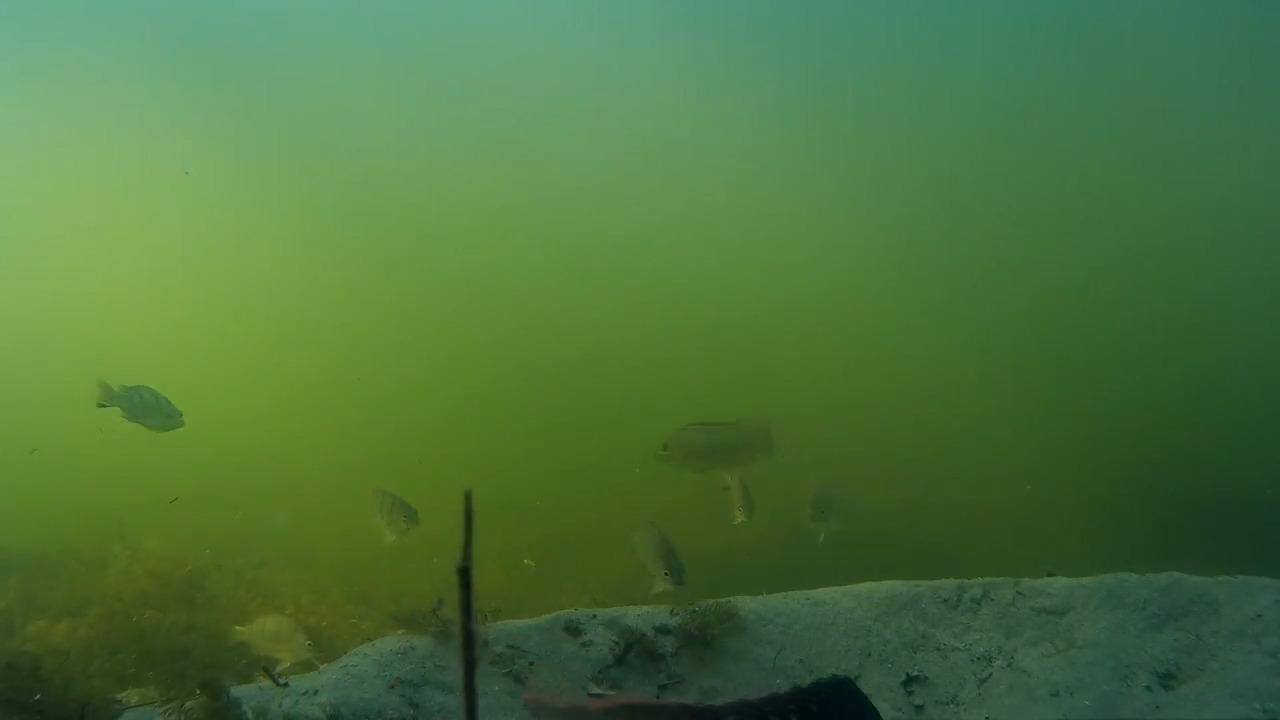Tilapia: (523, 664, 890, 720), (639, 386, 780, 470), (210, 602, 337, 678), (622, 526, 715, 616), (97, 376, 201, 440), (804, 472, 871, 564), (366, 488, 425, 556), (720, 472, 767, 546)
